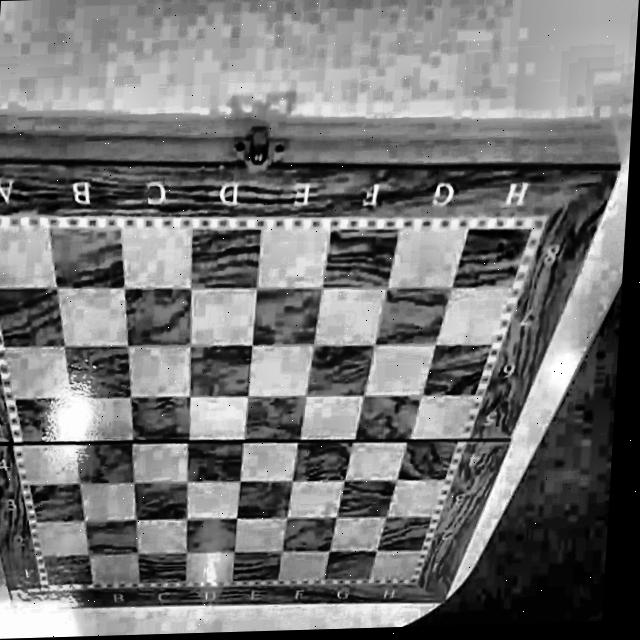chessboard: (0, 162, 620, 609)
